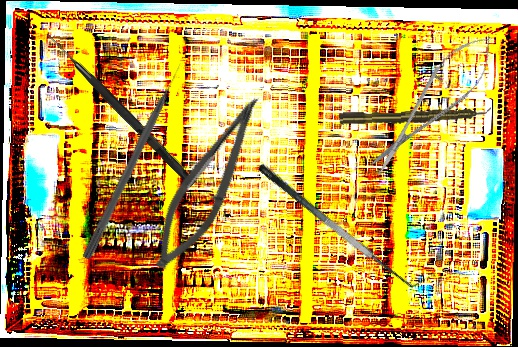Handpiece: (338, 106, 492, 126)
Hook Surgical: (42, 31, 199, 188)
Micro Scissor: (355, 20, 509, 188), (142, 83, 272, 281)
Pusher: (81, 60, 188, 262)
Spatula Surgical: (255, 149, 427, 300)
